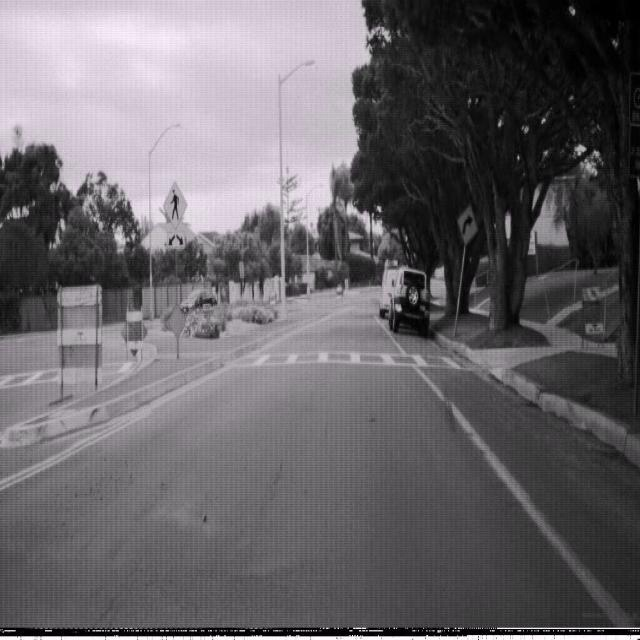pedestrianCrossing: (162, 179, 187, 231)
